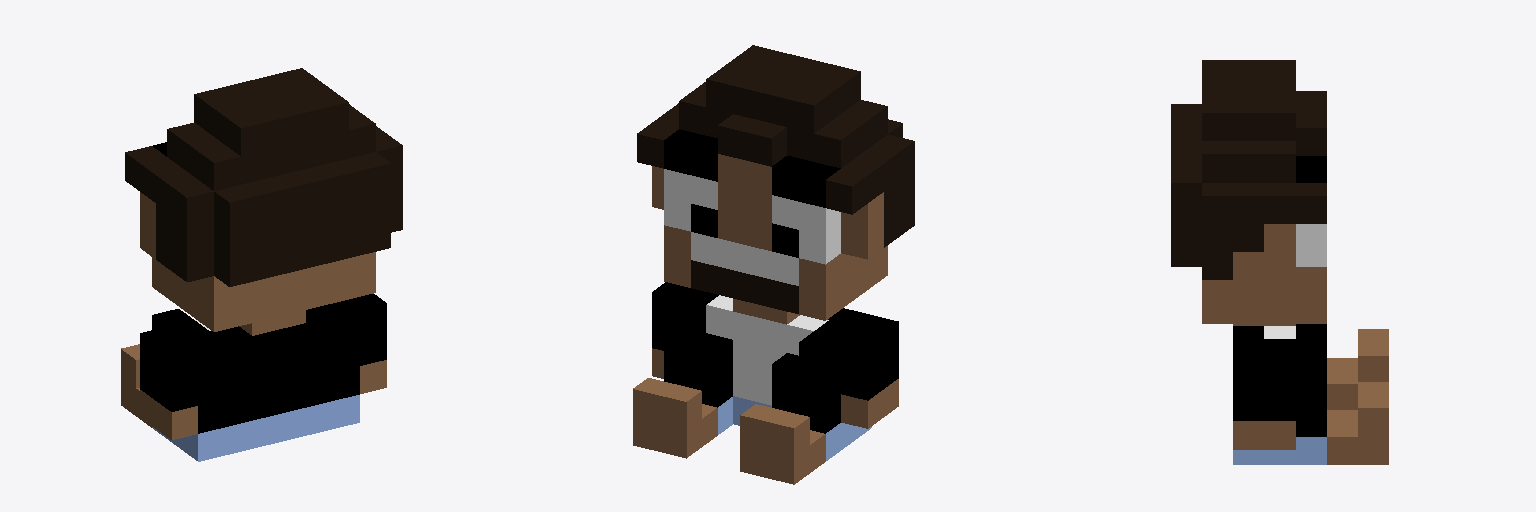
The picture shows the model from 3 angles: view 1: azimuth 30°, elevation 25°; view 2: azimuth 150°, elevation 25°; view 3: azimuth 270°, elevation 25°; orthographic projection.
Parts seen in each view (by area): view 1: object 1; view 2: object 1; view 3: object 1.
Part boxes in pixels (bbox=[...]): object 1: bbox=[121, 68, 402, 461]; object 1: bbox=[633, 45, 914, 484]; object 1: bbox=[1171, 60, 1388, 464].
Bounding box in the file's own units: 0.8 × 1.2 × 0.7.
Materials: 1 (1 with a texture image).